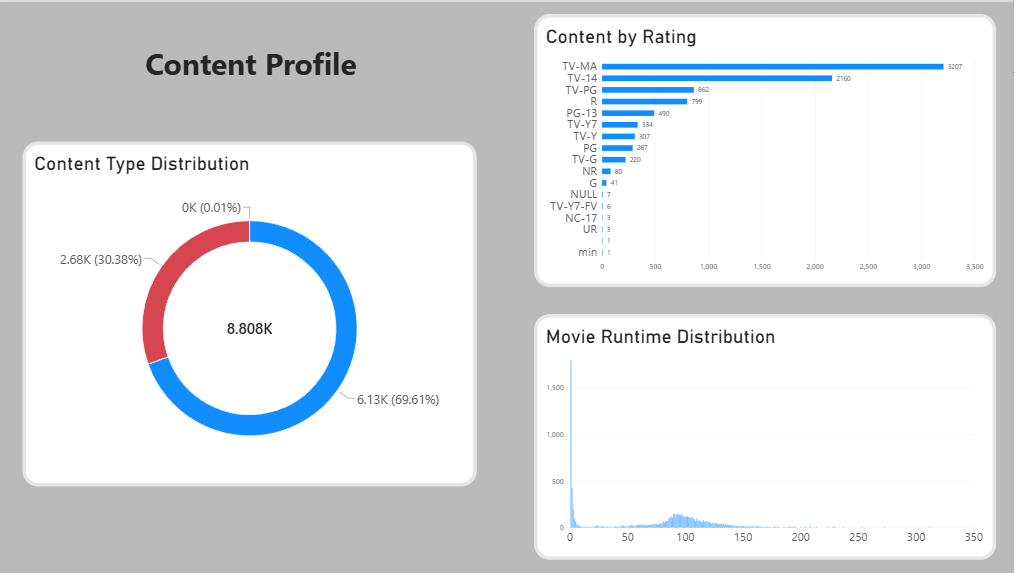

The dashboard page shown, as its layout file describes it:
{"tool":"powerbi","page":{"name":"Content Profile","canvas":[1920,1080],"ordinal":2},"visuals":[{"type":"donutChart","title":"Content Type Distribution","fields":{"Category":["netflix_titles.type"],"Y":["CountNonNull(netflix_titles.show_id)"]},"box":[48.2,263.6,858.9,652],"z":0},{"type":"barChart","title":"Content by Rating","fields":{"Category":["netflix_titles.rating"],"Y":["CountNonNull(netflix_titles.show_id)"]},"box":[1014.8,22.7,873.1,515.9],"z":1000},{"type":"textbox","box":[48.2,76.5,683.2,96.4],"z":2000},{"type":"columnChart","title":"Movie Runtime Distribution","fields":{"Category":["netflix_titles.duration"],"Y":["CountNonNull(netflix_titles.duration_type)"]},"box":[1014.8,589.6,873.1,464.9],"z":3000}]}

Visuals, with their boxes in screenshot pixels (x1, y1, x2, y2), scaled from the page's 1920x1080 canvas onto the 1015x573 screenshot:
"Content Type Distribution" donutChart: 25:140:480:486
"Content by Rating" barChart: 536:12:998:286
textbox: 25:41:387:92
"Movie Runtime Distribution" columnChart: 536:313:998:559
